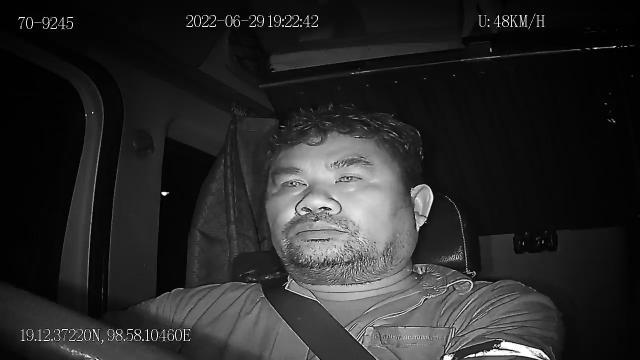SafeDriving: (270, 168, 313, 196), (330, 162, 370, 190)
Seatbelt: (231, 262, 379, 360)
